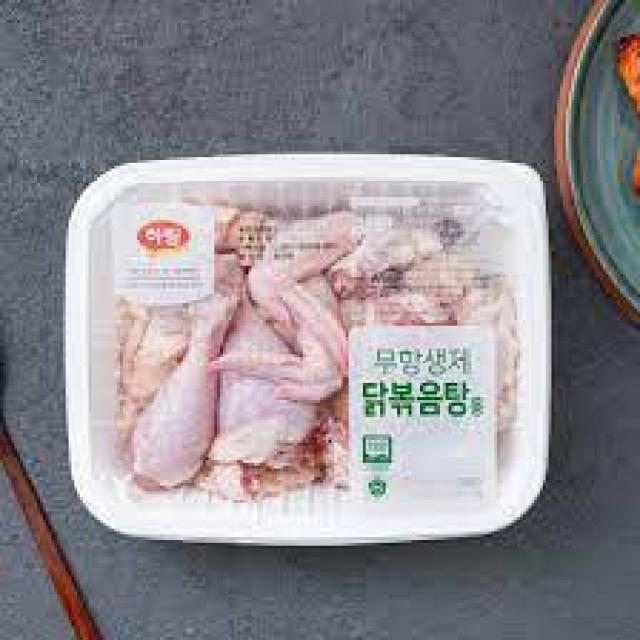chicken: (80, 166, 541, 532)
